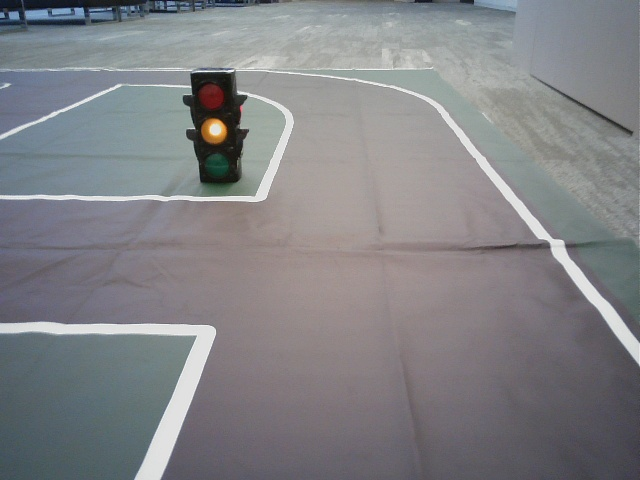yellow: (193, 77, 235, 178)
